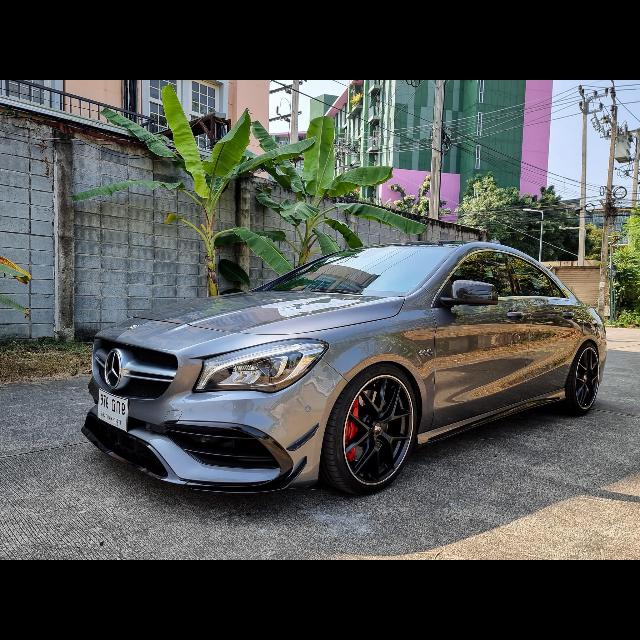cars: (77, 238, 608, 504)
